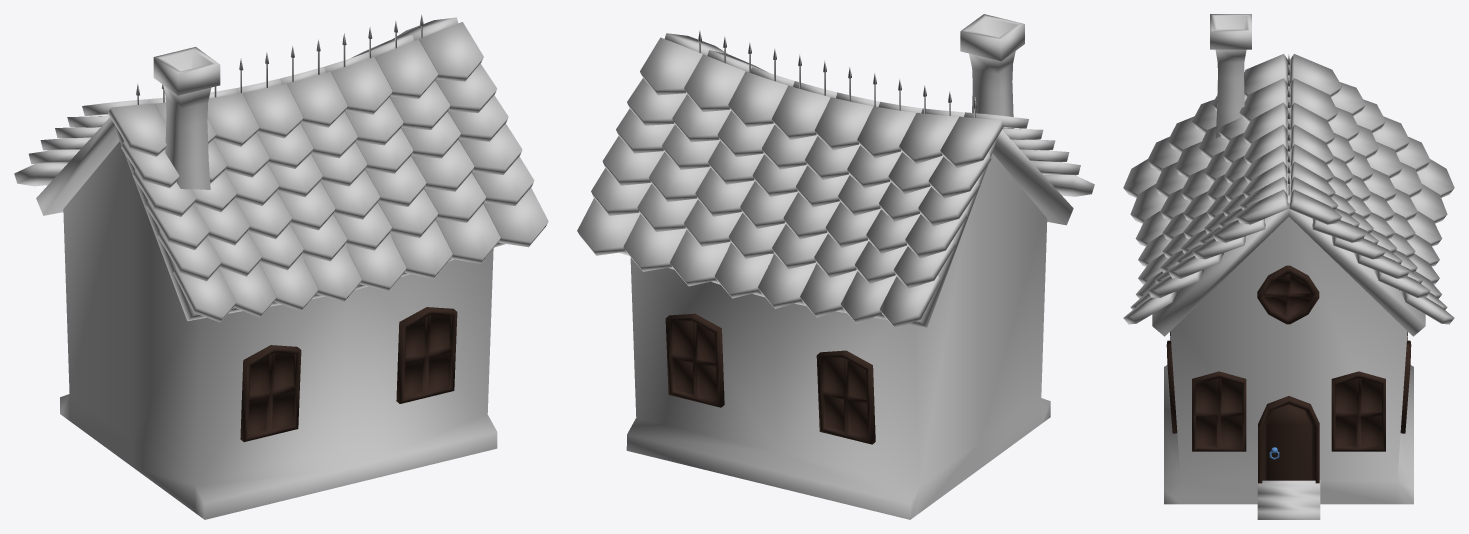
Rendered from VampireManor.obj.
3 views of the same model, side by side, from view 1: azimuth 30°, elevation 25°; view 2: azimuth 150°, elevation 25°; view 3: azimuth 270°, elevation 25° (orthographic). The views are drawn at different scales.
Parts seen in each view (by area): view 1: Cube.084; view 2: Cube.084; view 3: Cube.084.
Boxes of the visible parts, x1,y1,x2,y2 form: Cube.084: (14, 14, 548, 519); Cube.084: (577, 14, 1094, 519); Cube.084: (1123, 14, 1454, 519).
Bounding box in the file's own units: 6.37 × 7.25 × 5.93.
